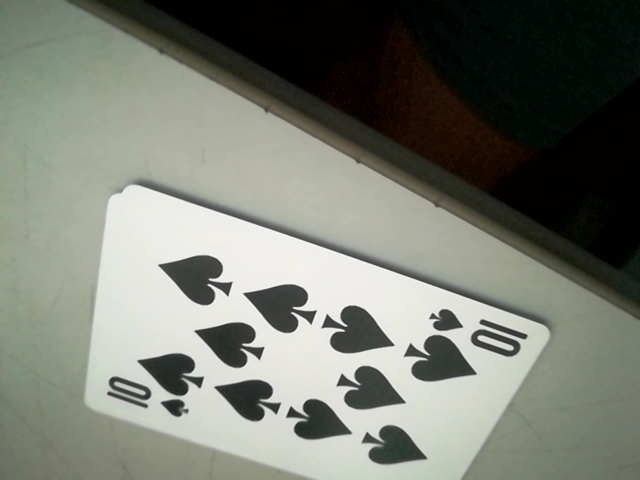ht 10: (98, 373, 200, 423)
